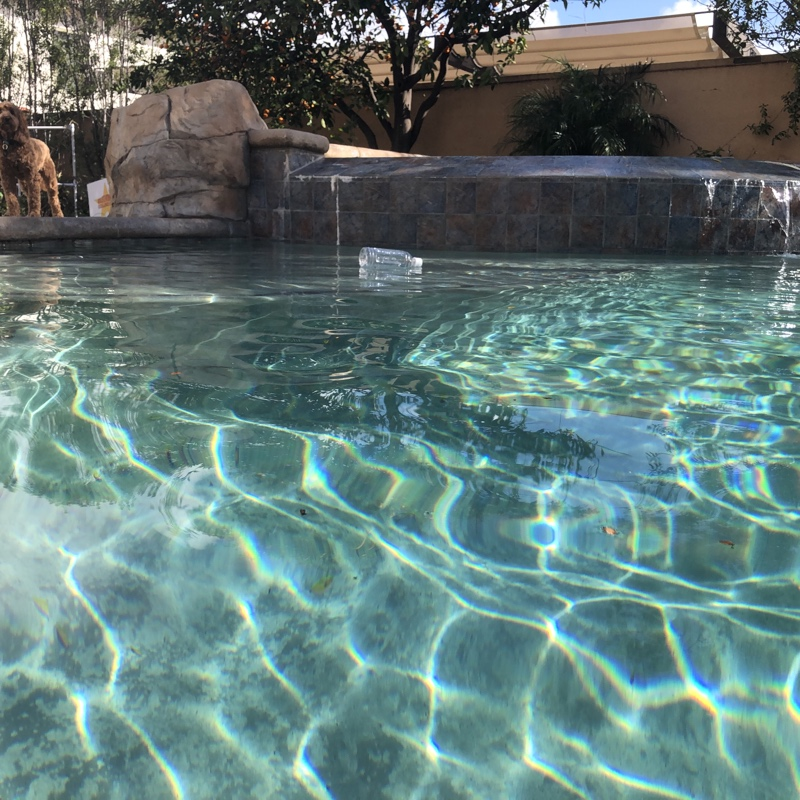Plastic Bottle: (356, 247, 425, 275)
